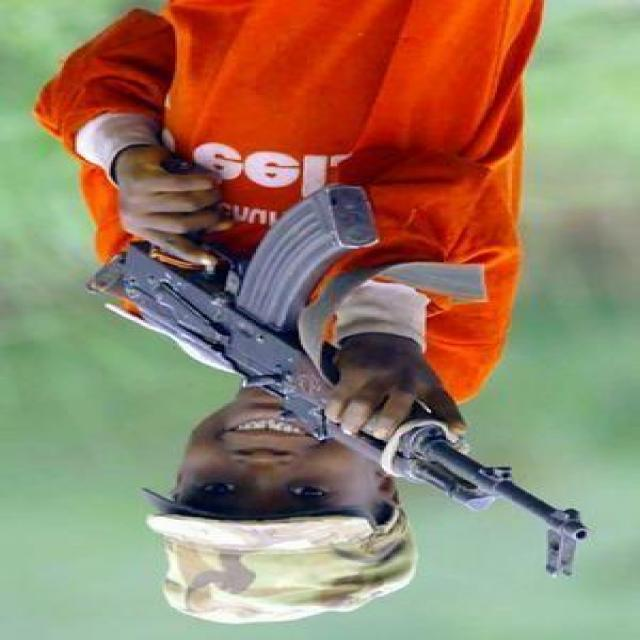weapon: (81, 185, 594, 582)
